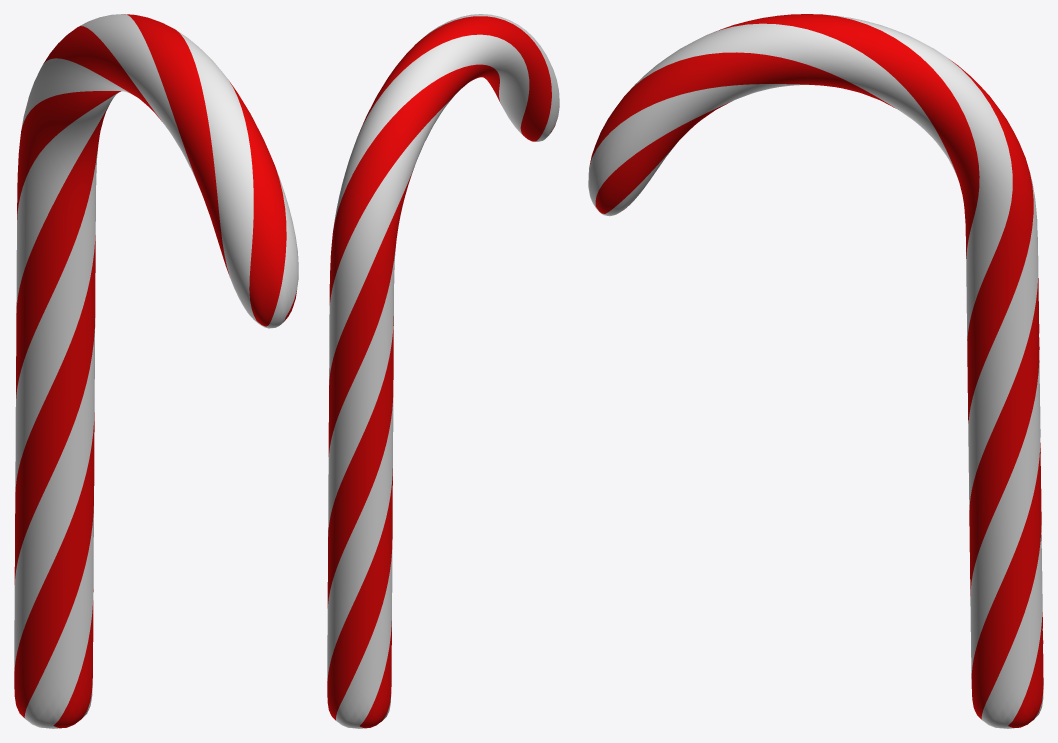
3 views of the same model, side by side, from view 1: azimuth 30°, elevation 25°; view 2: azimuth 150°, elevation 25°; view 3: azimuth 270°, elevation 25° (orthographic). The views are drawn at different scales.
Visible parts, largest first — view 1: Circle; view 2: Circle; view 3: Circle.
Part boxes in pixels (box(x1,y1,x2,y2)): Circle: box(14, 14, 298, 728); Circle: box(327, 14, 559, 728); Circle: box(588, 14, 1043, 728).
Bounding box in the file's own units: 35.96 × 388 × 226.
